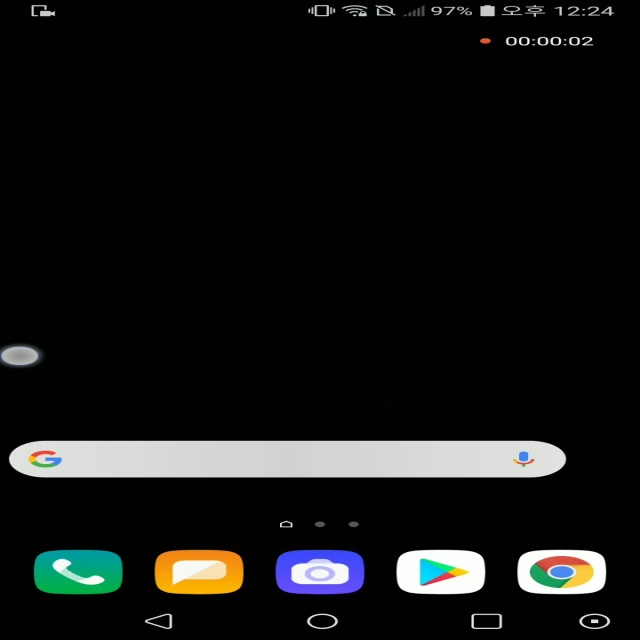Cursor: (1, 345, 45, 367)
